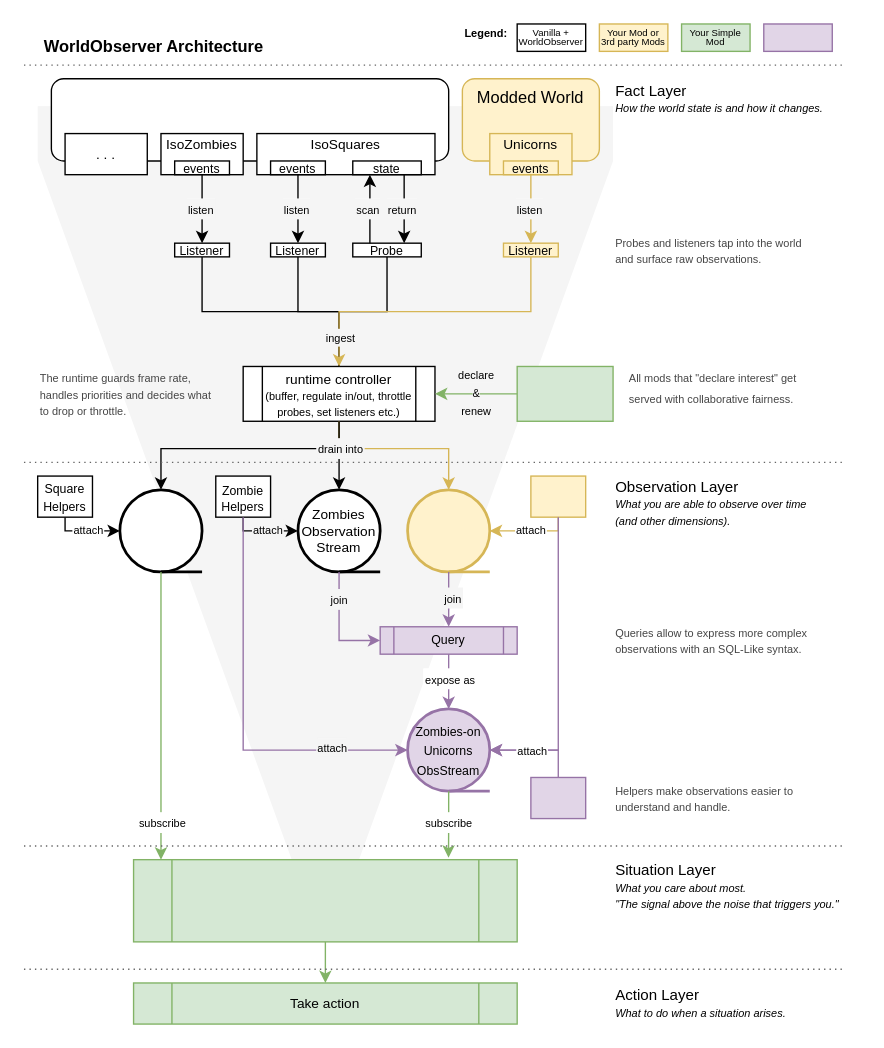
Some shapes in this 884 by 1048 pixel diagram are drawn without their labels. Each missing label, with the centre of its shape:
Riding Helpers: (x=558, y=797)
Square Observation Stream: (x=160, y=530)
Unicorn Helpers: (x=558, y=496)
Unicorn Obsservation Stream: (x=448, y=530)
Use results + helpers to identify and understand an "interesting situation": (x=324, y=900)
Vanilla World: (x=249, y=119)
what you are interested in and for how long: (x=564, y=393)
Your Advanced Mod: (x=797, y=37)
